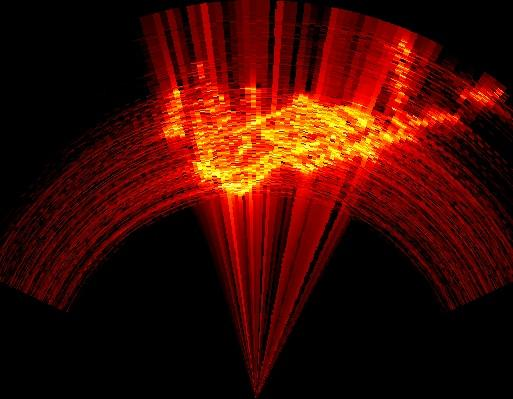shipwreck: (164, 95, 446, 193), (392, 59, 408, 110)
